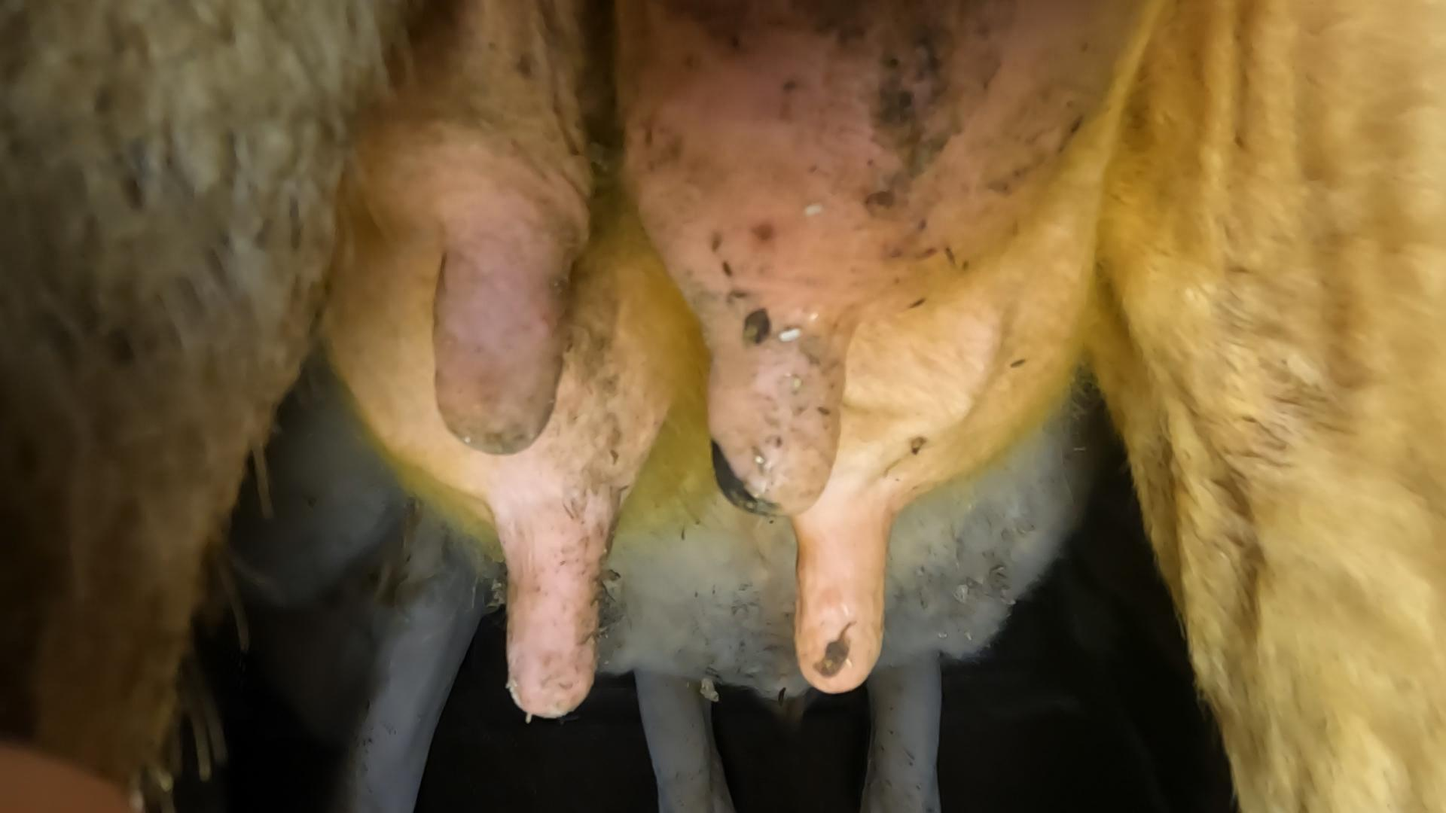Zitze: (476, 468, 641, 731), (420, 190, 570, 479), (683, 317, 875, 514), (776, 481, 916, 692)
